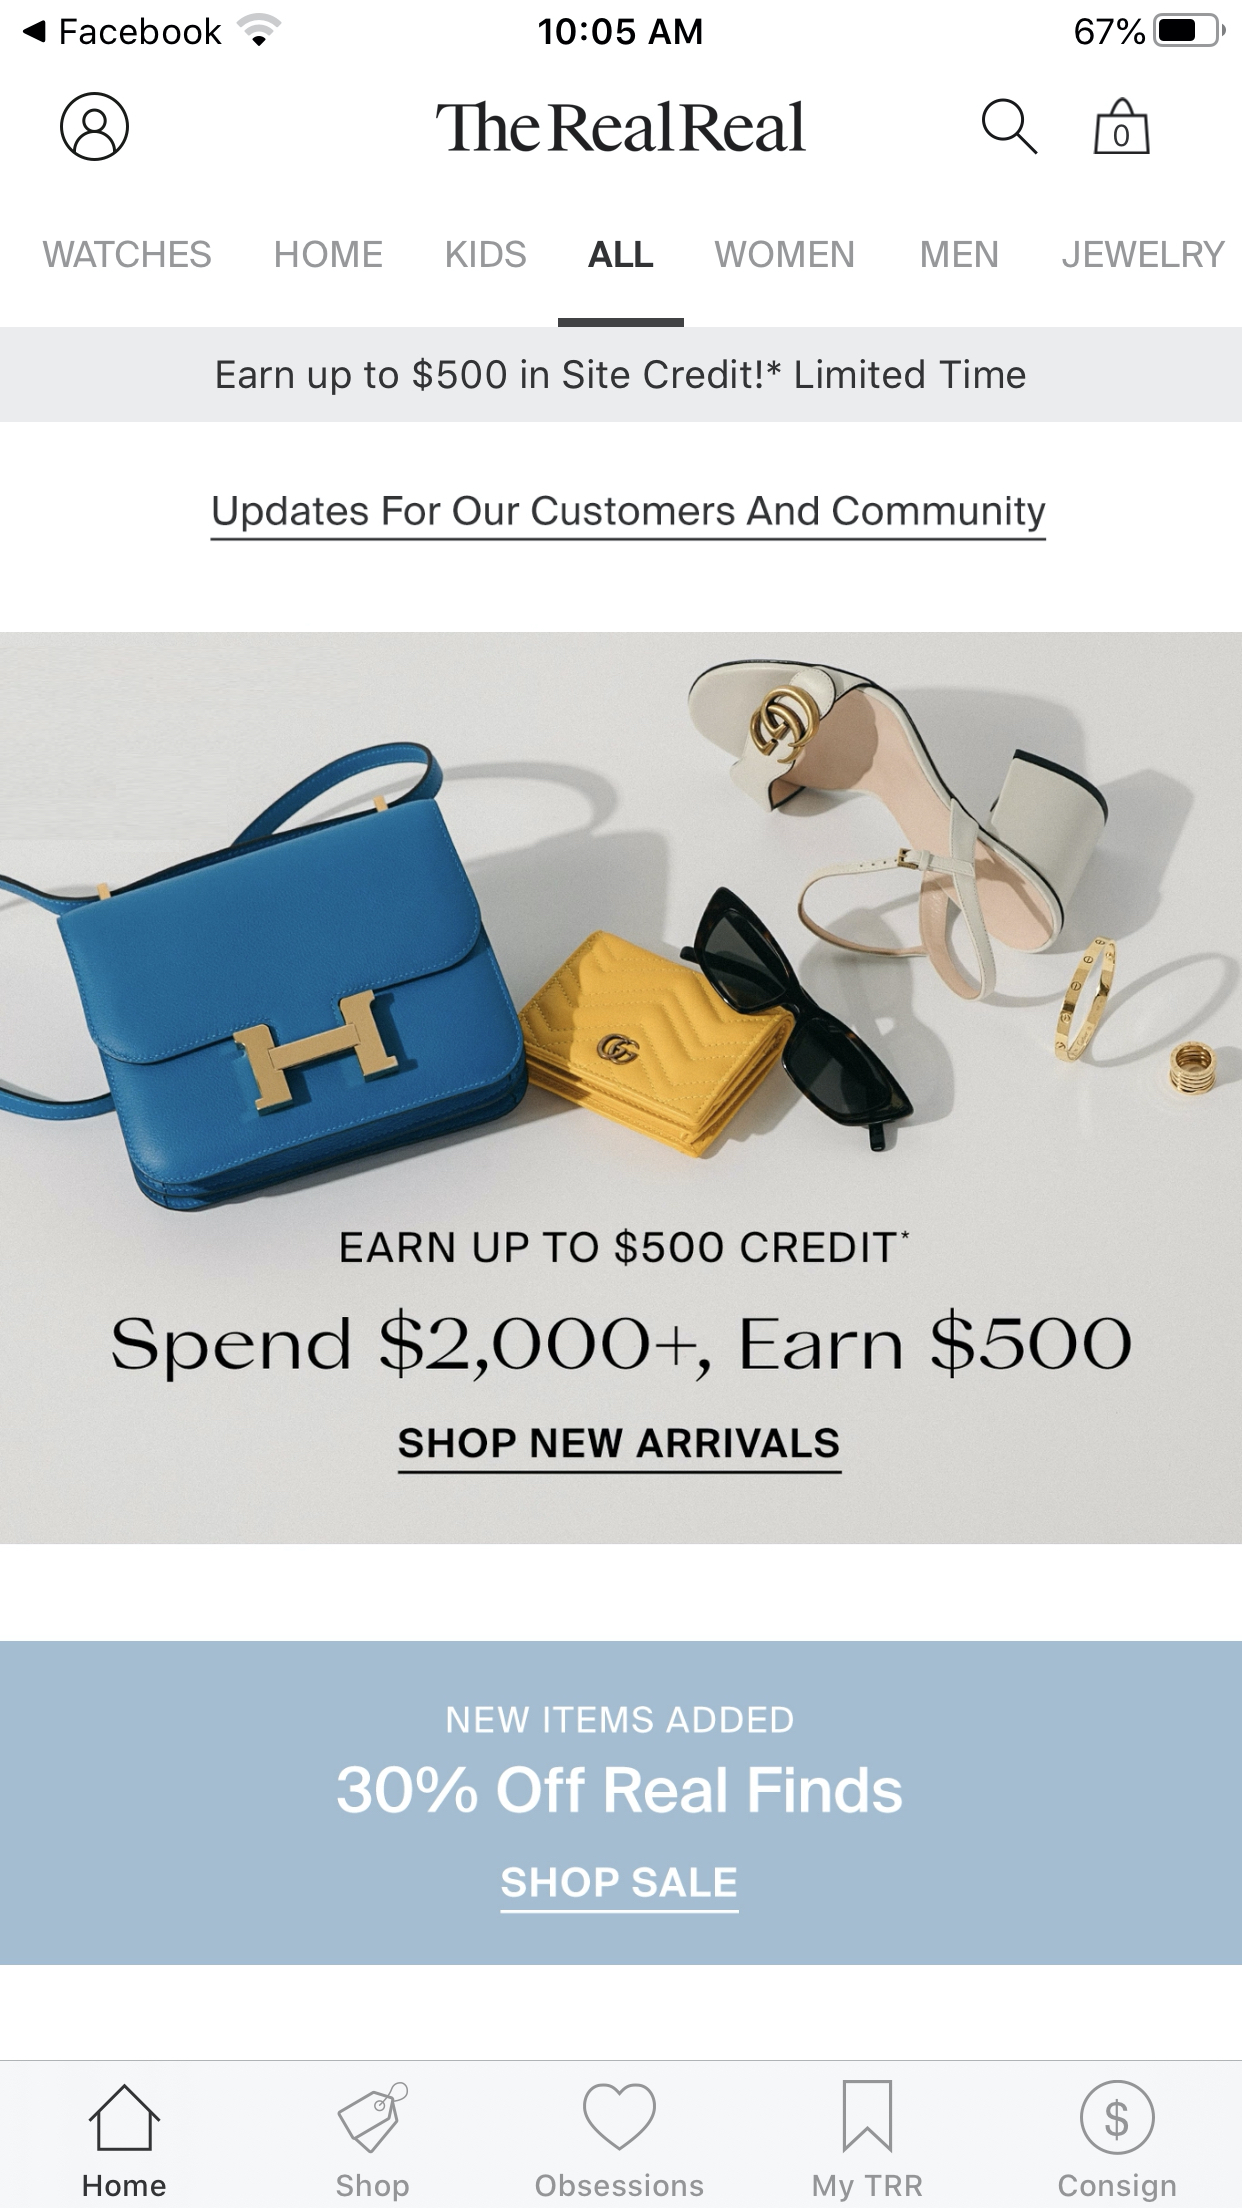Icon: (1080, 2081, 1156, 2153), (337, 2082, 408, 2153), (582, 2084, 657, 2150), (88, 2084, 161, 2150), (61, 93, 129, 161), (842, 2081, 893, 2153), (1093, 99, 1149, 155), (983, 99, 1037, 155)
Image: (2, 632, 1240, 1544)
Text: (112, 1307, 1131, 1382), (212, 494, 1046, 532), (217, 356, 1027, 394), (337, 1765, 902, 1814), (340, 1228, 908, 1266), (437, 100, 805, 152), (397, 1427, 839, 1457), (447, 1706, 793, 1733), (500, 1867, 737, 1899), (42, 240, 211, 268), (1062, 240, 1225, 268), (714, 240, 854, 268), (535, 2173, 704, 2196), (1059, 2172, 1175, 2200), (276, 240, 382, 268), (813, 2175, 922, 2202), (447, 240, 526, 268), (337, 2173, 409, 2202), (922, 240, 998, 267), (83, 2175, 165, 2197), (588, 240, 654, 267)
UpperTaskBar: (2, 2, 1242, 49)
